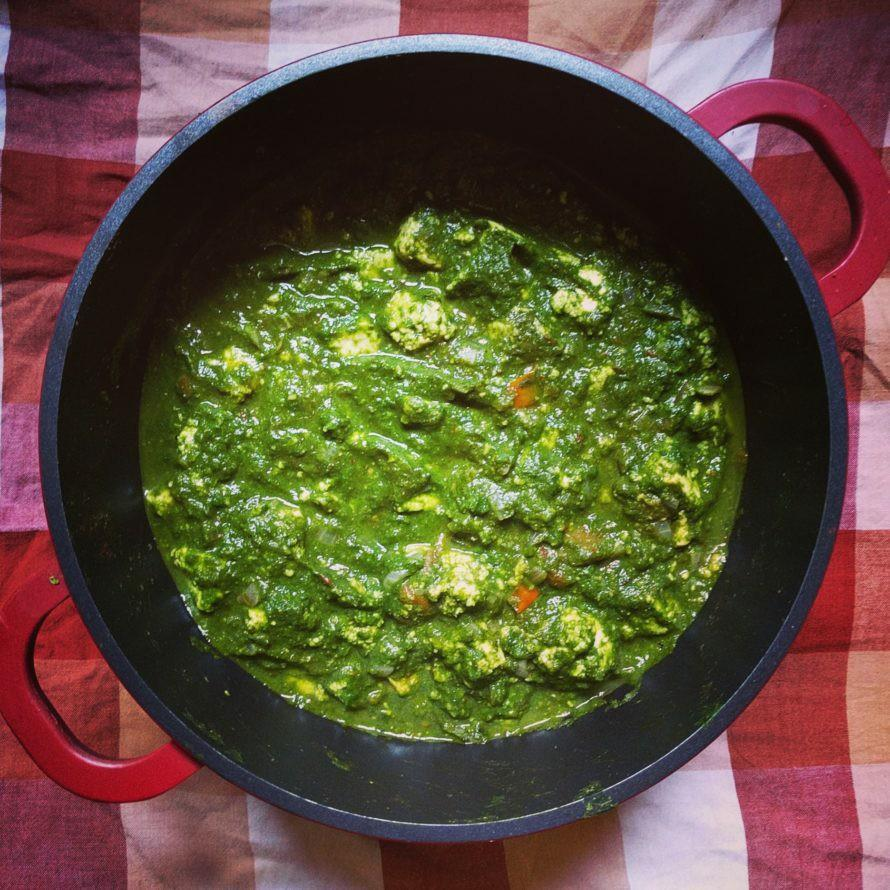PalakPaneer: (148, 182, 740, 745)
